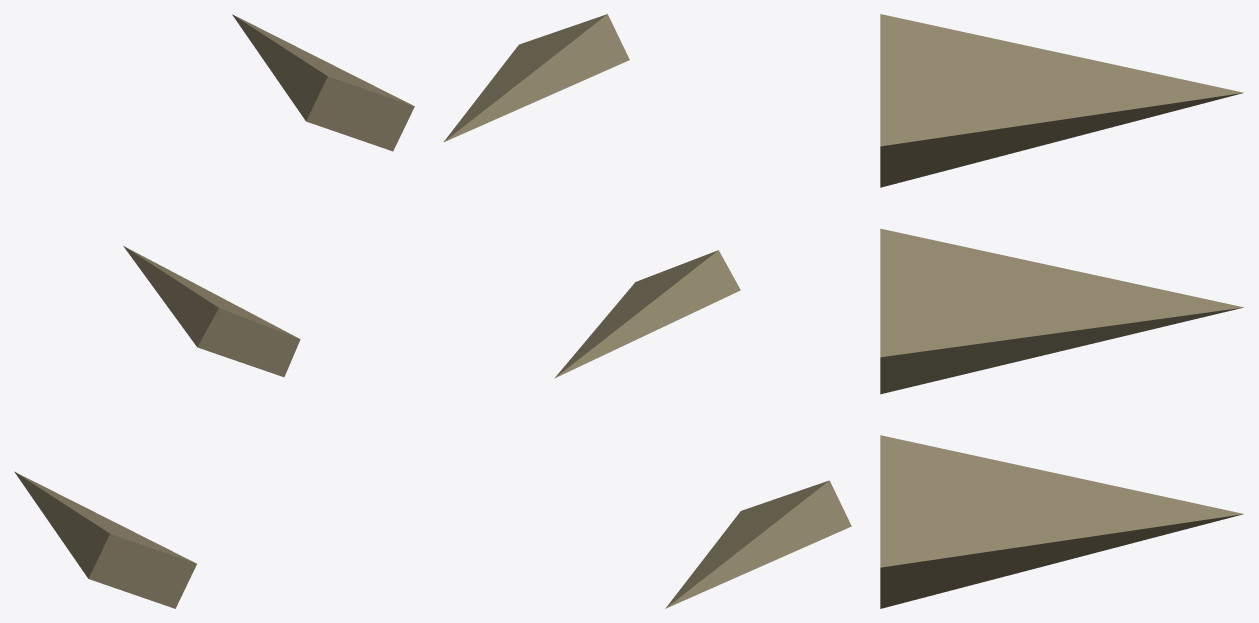
File: obj_timber_defence_3_0.obj
3 views of the same model, side by side, from view 1: azimuth 30°, elevation 25°; view 2: azimuth 150°, elevation 25°; view 3: azimuth 270°, elevation 25° (orthographic). The views are drawn at different scales.
Bounding box in the file's own units: 0.4688 × 0.6797 × 0.3203.
